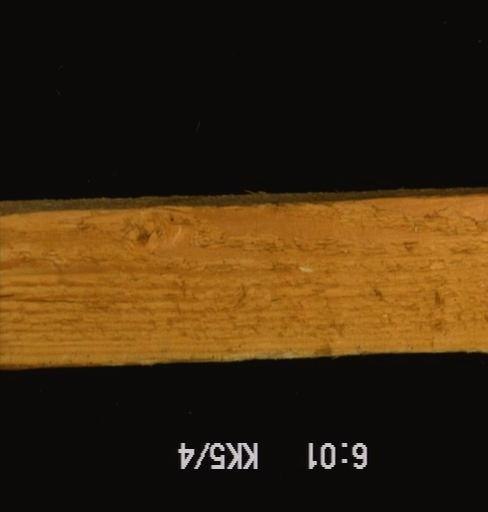small_knot: (114, 216, 160, 252)
